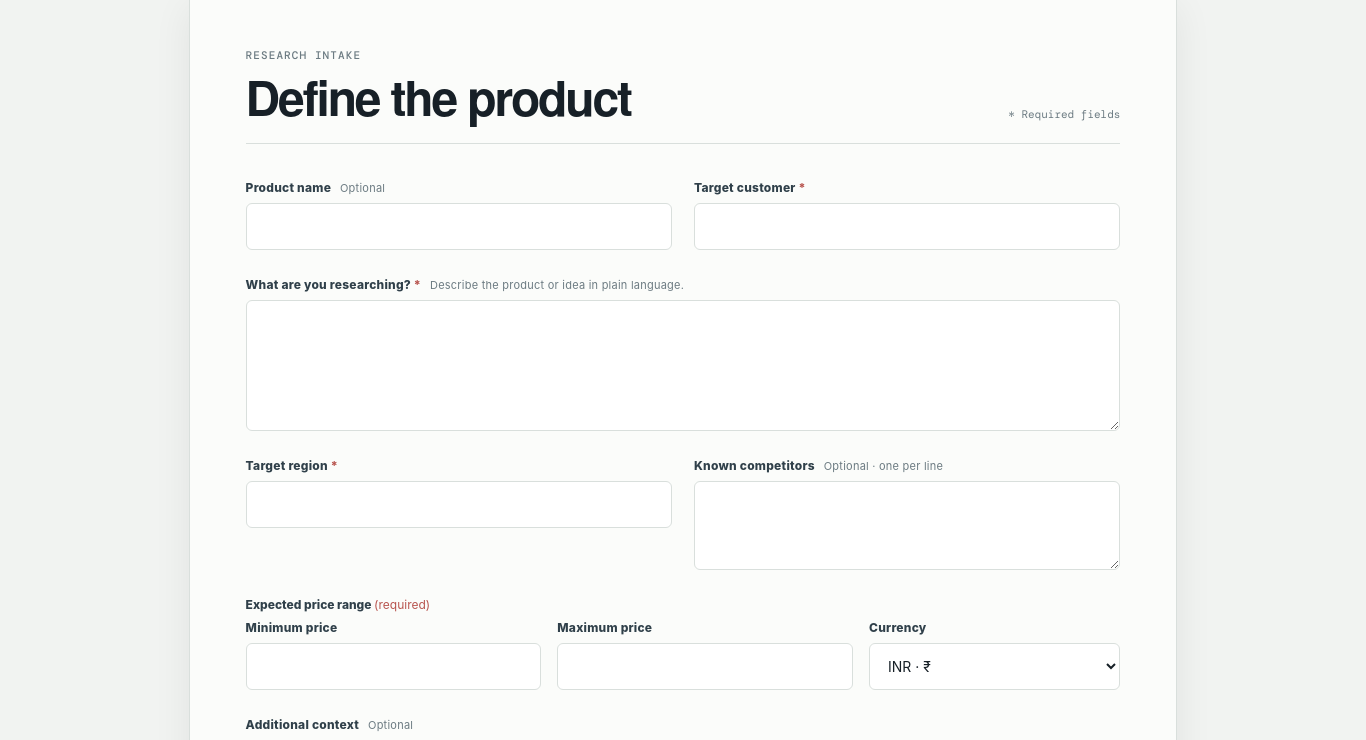
NewRun › rejects an inverted price range
The width and height of the screenshot is (1366, 740).
(page scrolled)
Type "A product idea" into the text box labelled "What are you researching" at point(683, 365), box [246,300,1120,431]
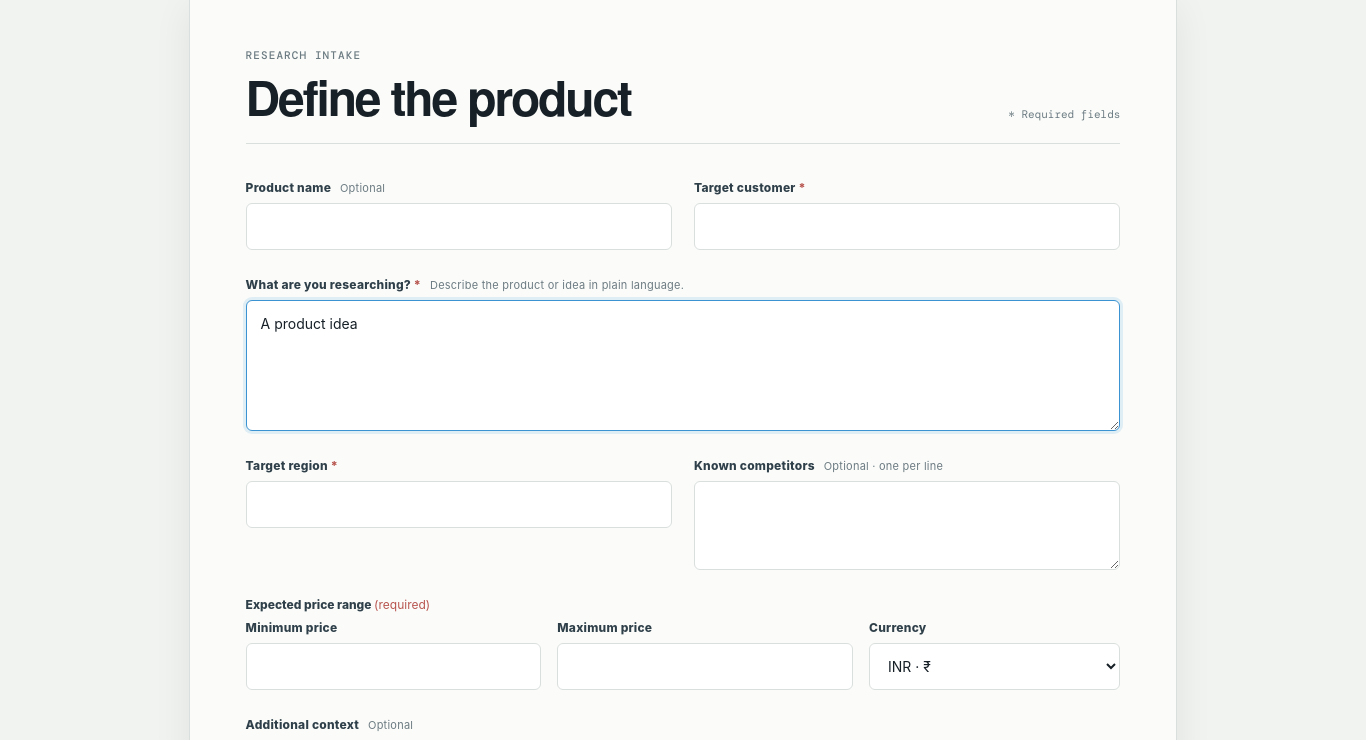
Type "Founders" into the field labelled "Target customer *" at point(907, 226), box [694,203,1120,250]
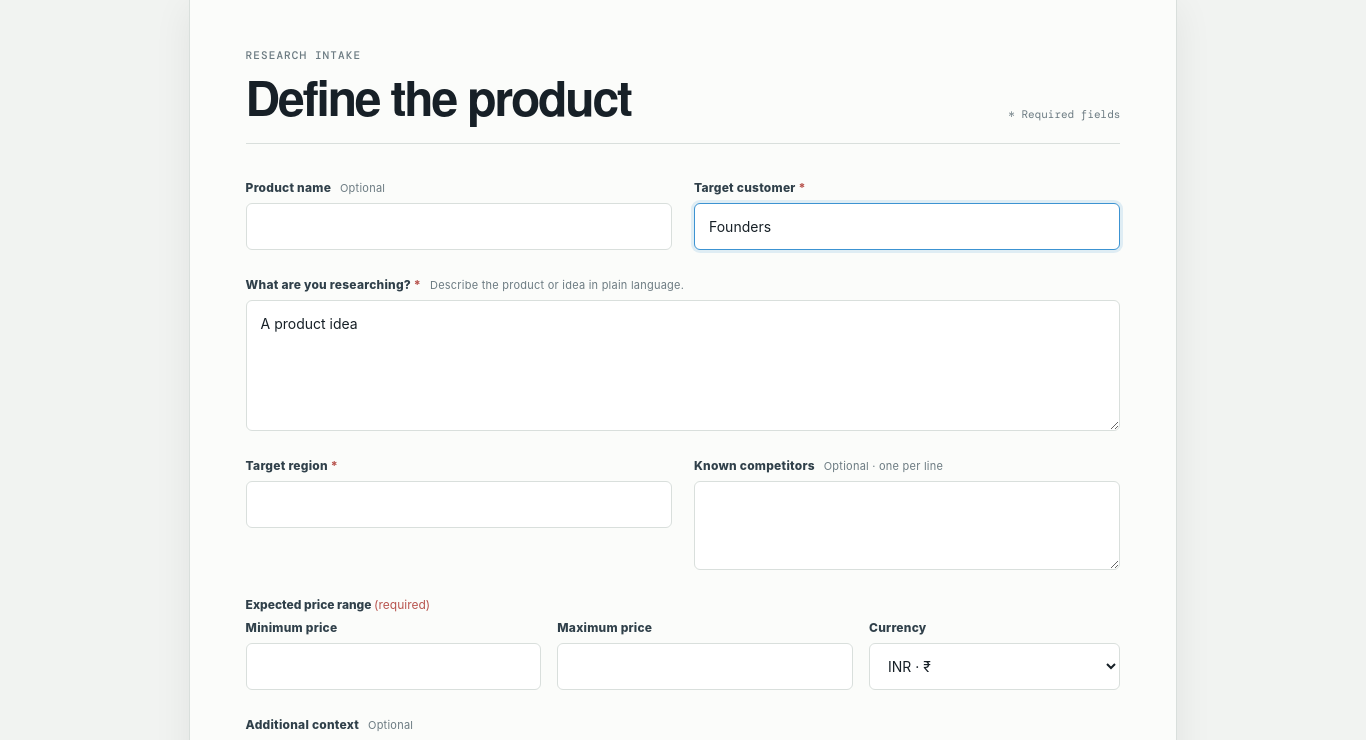
Type "India" into the field labelled "Target region *" at point(459, 504), box [246,481,672,528]
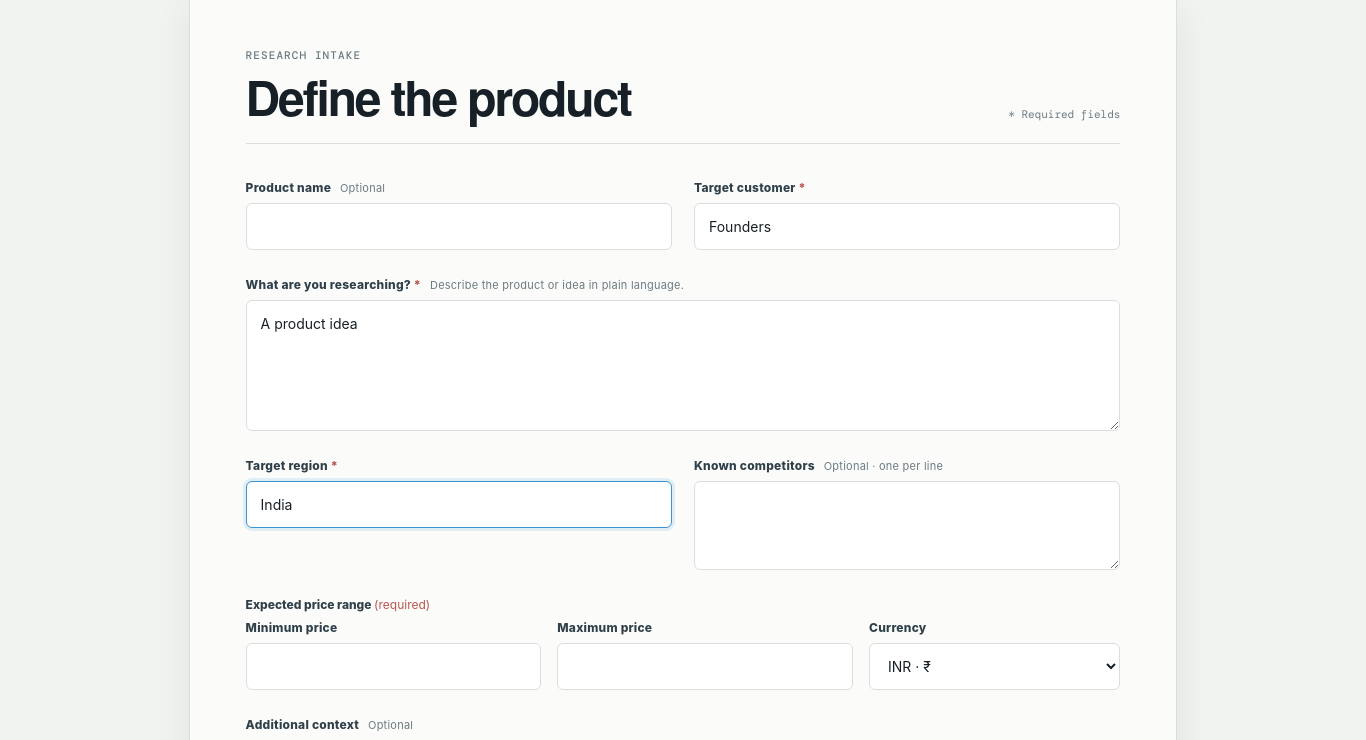
Type "500" into the number field labelled "Minimum price" at point(393, 666), box [246,643,541,690]
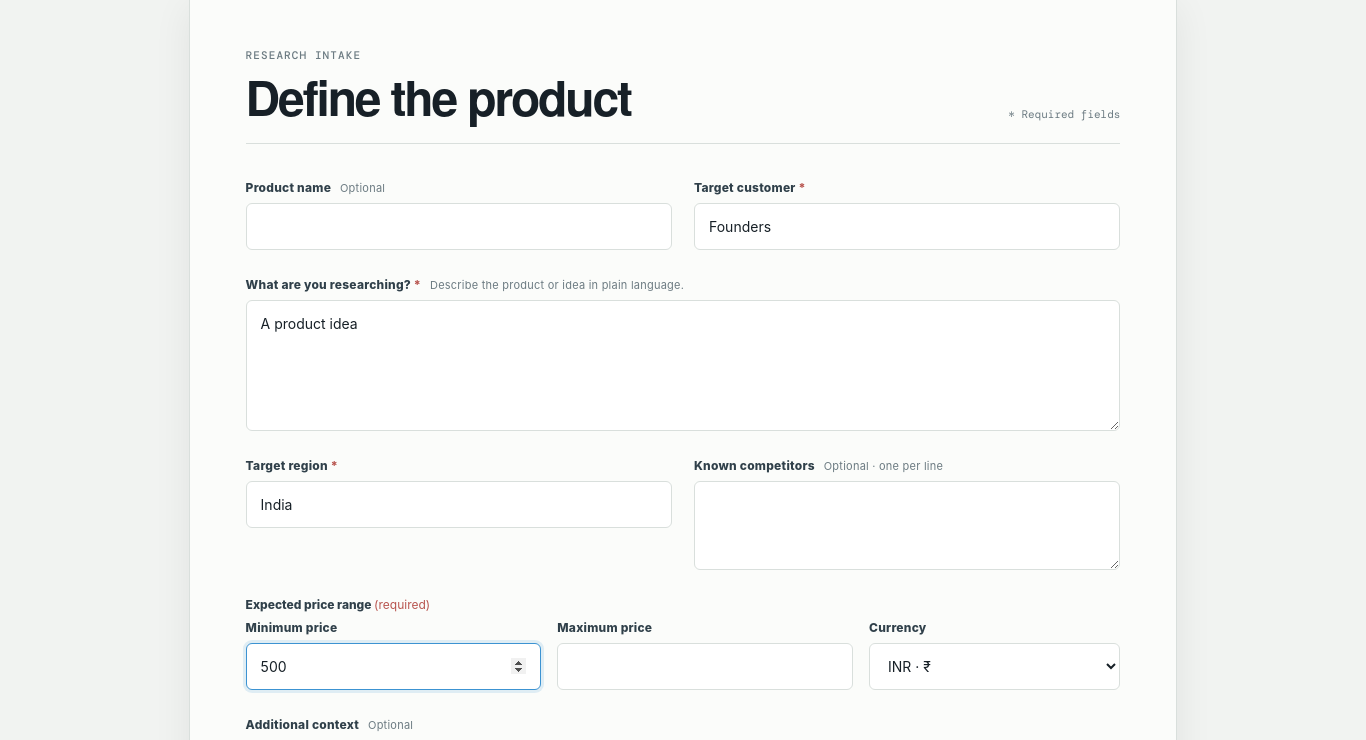
Type "100" into the number field labelled "Maximum price" at point(705, 666), box [557,643,853,690]
(page scrolled)
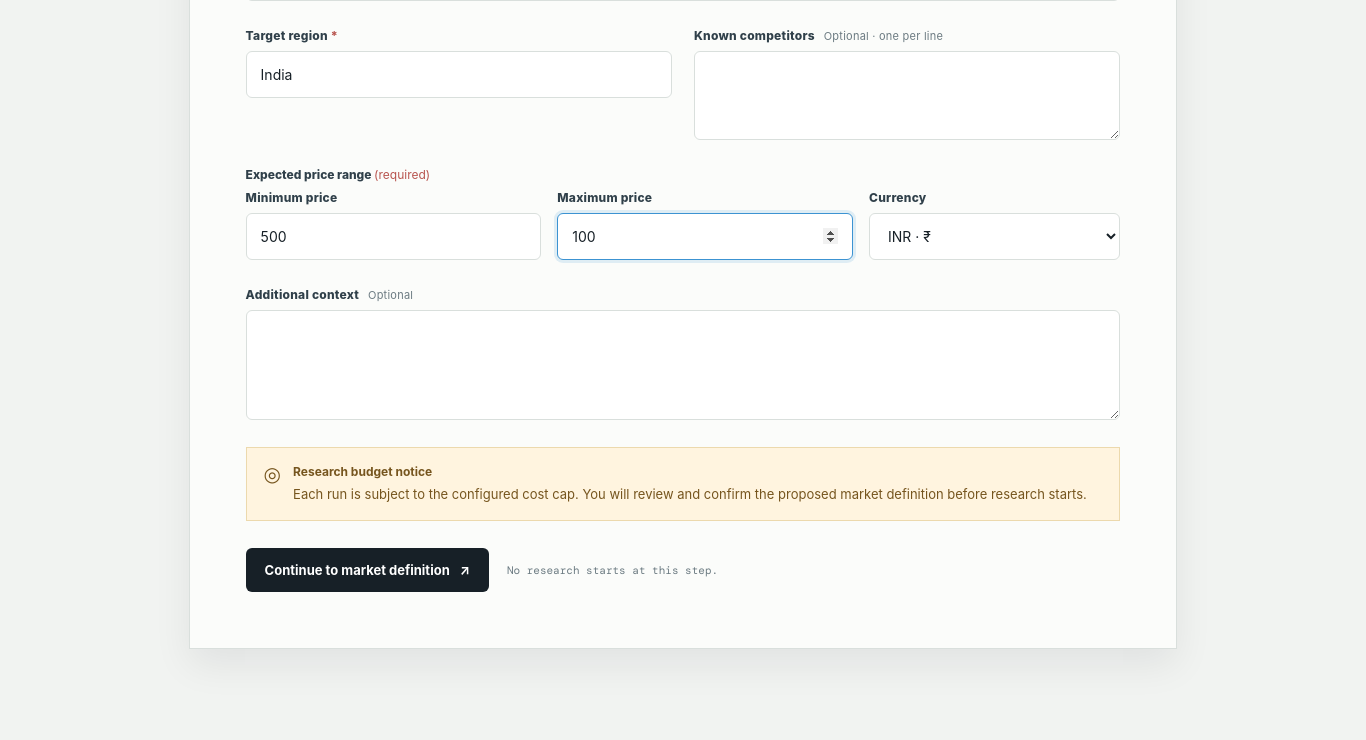
Click the button "Continue to market definition ↗" at point(367, 570), box [246,548,489,592]
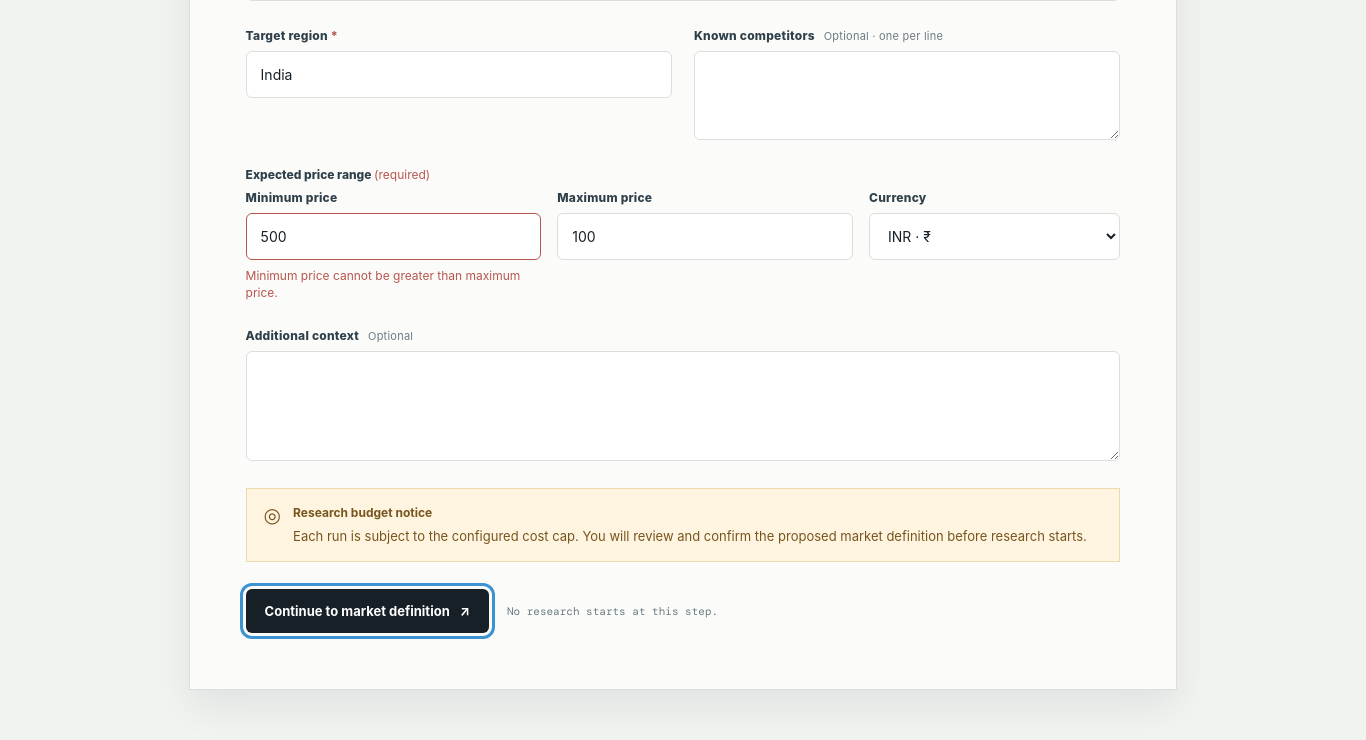
Expected: the text "Minimum price cannot be greater than maximum price." is shown, [246,268,541,302]
